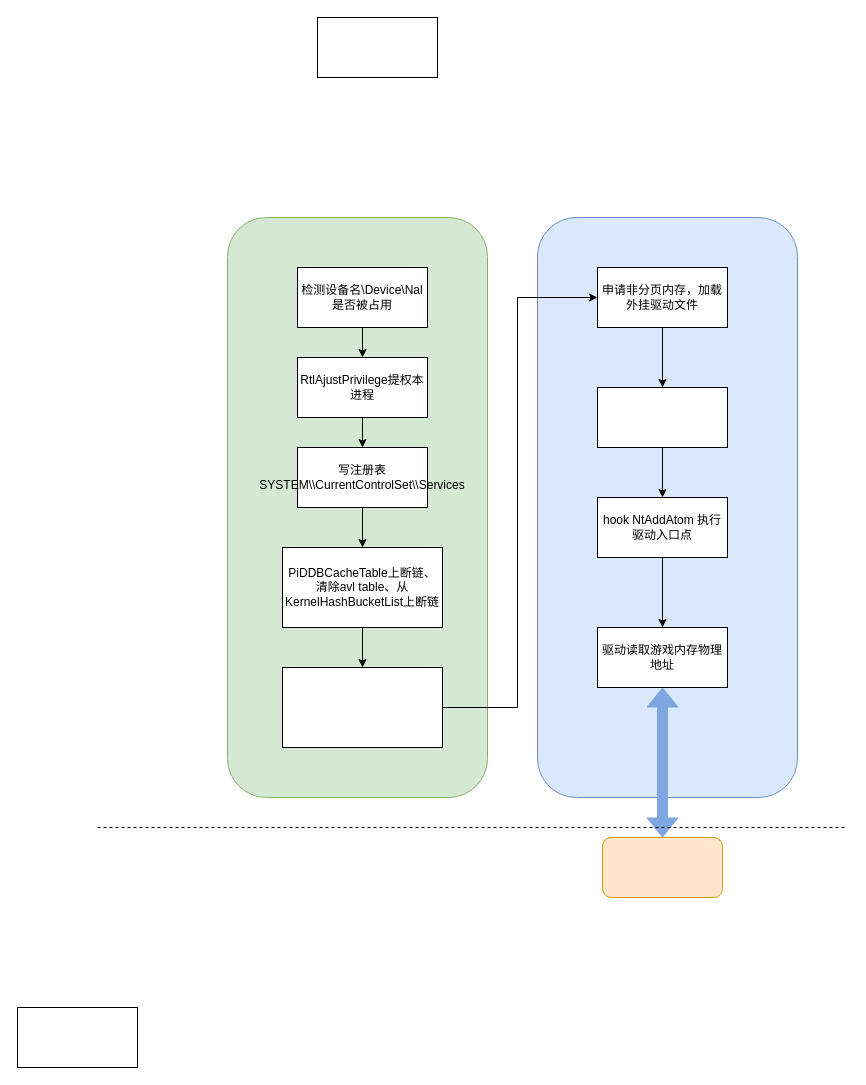
This 866x1085 diagram has some shape labels left out. The box of each missing label's shape, as (x1, y1, x2, y2) in pixels:
R3绘制: (602, 836, 722, 898)
映射内核物理地址，写入外挂驱动，取消映射: (596, 386, 728, 448)
清除unloader driver信息、 从WdFilterDriverList上断链: (282, 666, 442, 748)
